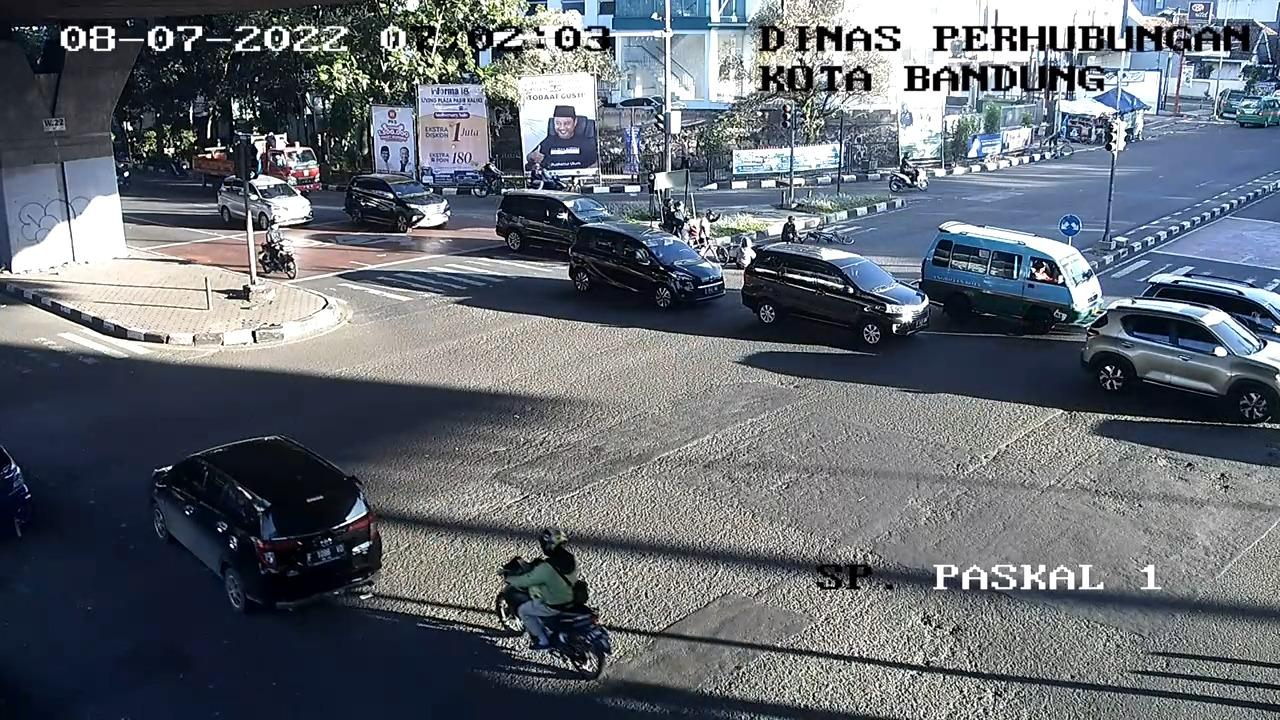accident: (726, 225, 757, 273)
